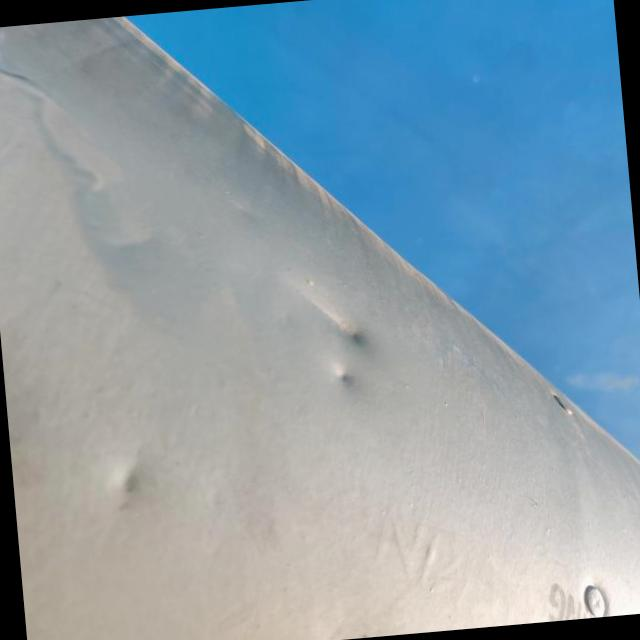dent: (285, 276, 381, 362), (98, 442, 166, 524), (316, 356, 366, 396)
